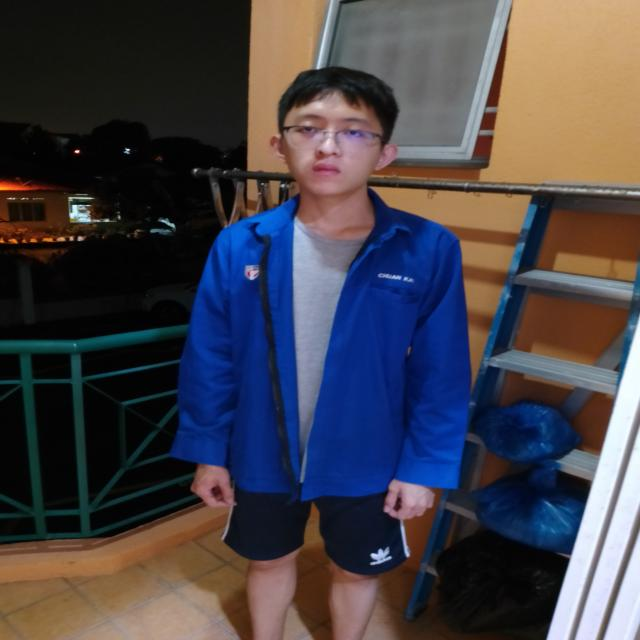person_with_labcoat: (171, 67, 471, 640)
